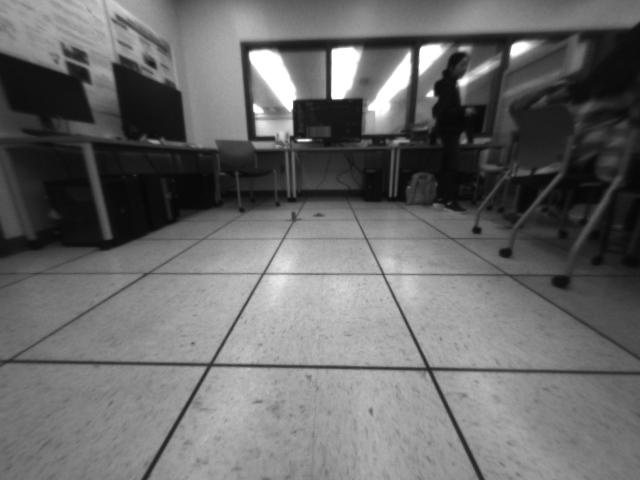X: (282, 210, 304, 224)
